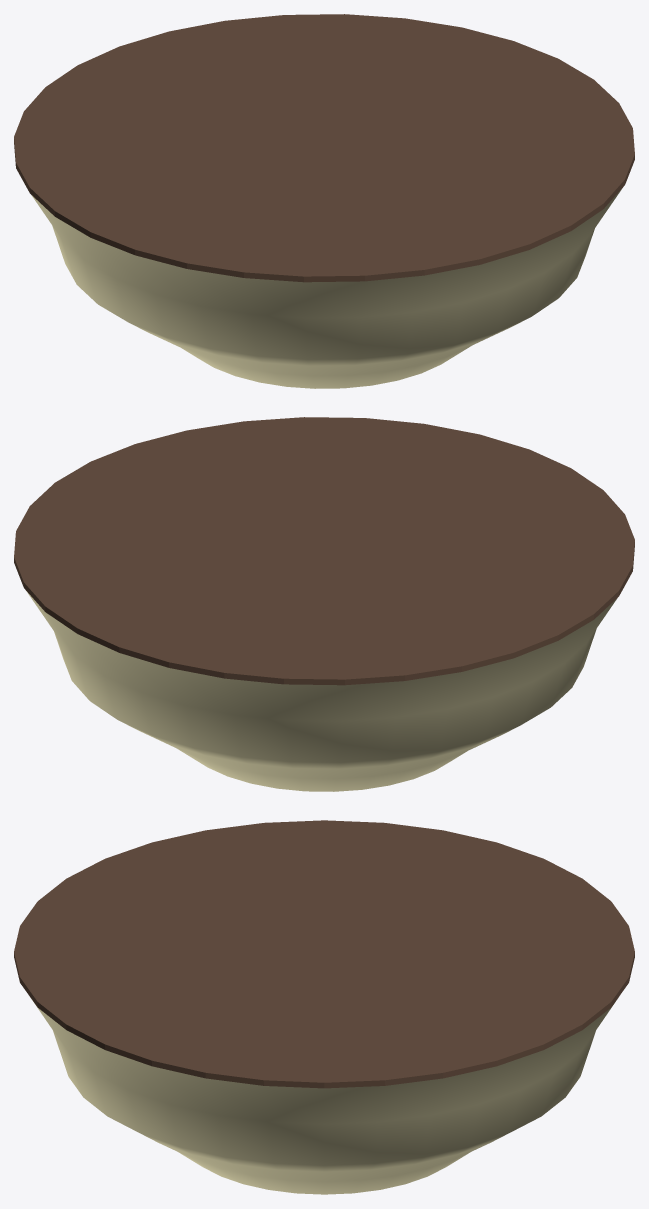
Rendered from CeilingLampOn.fbx.
3 views of the same model, one above another, from view 1: azimuth 30°, elevation 25°; view 2: azimuth 150°, elevation 25°; view 3: azimuth 270°, elevation 25° (orthographic).
Visible parts, largest first — view 1: Cube, Sphere; view 2: Cube, Sphere; view 3: Cube, Sphere.
Part boxes in pixels (x1,y1,x2,y2): Cube: (14, 14, 634, 282); Sphere: (31, 188, 622, 388); Cube: (14, 417, 634, 685); Sphere: (26, 591, 617, 791); Cube: (14, 820, 634, 1088); Sphere: (31, 999, 617, 1194).
Size of the model in its own units: 65.94 by 24.46 by 65.94.
